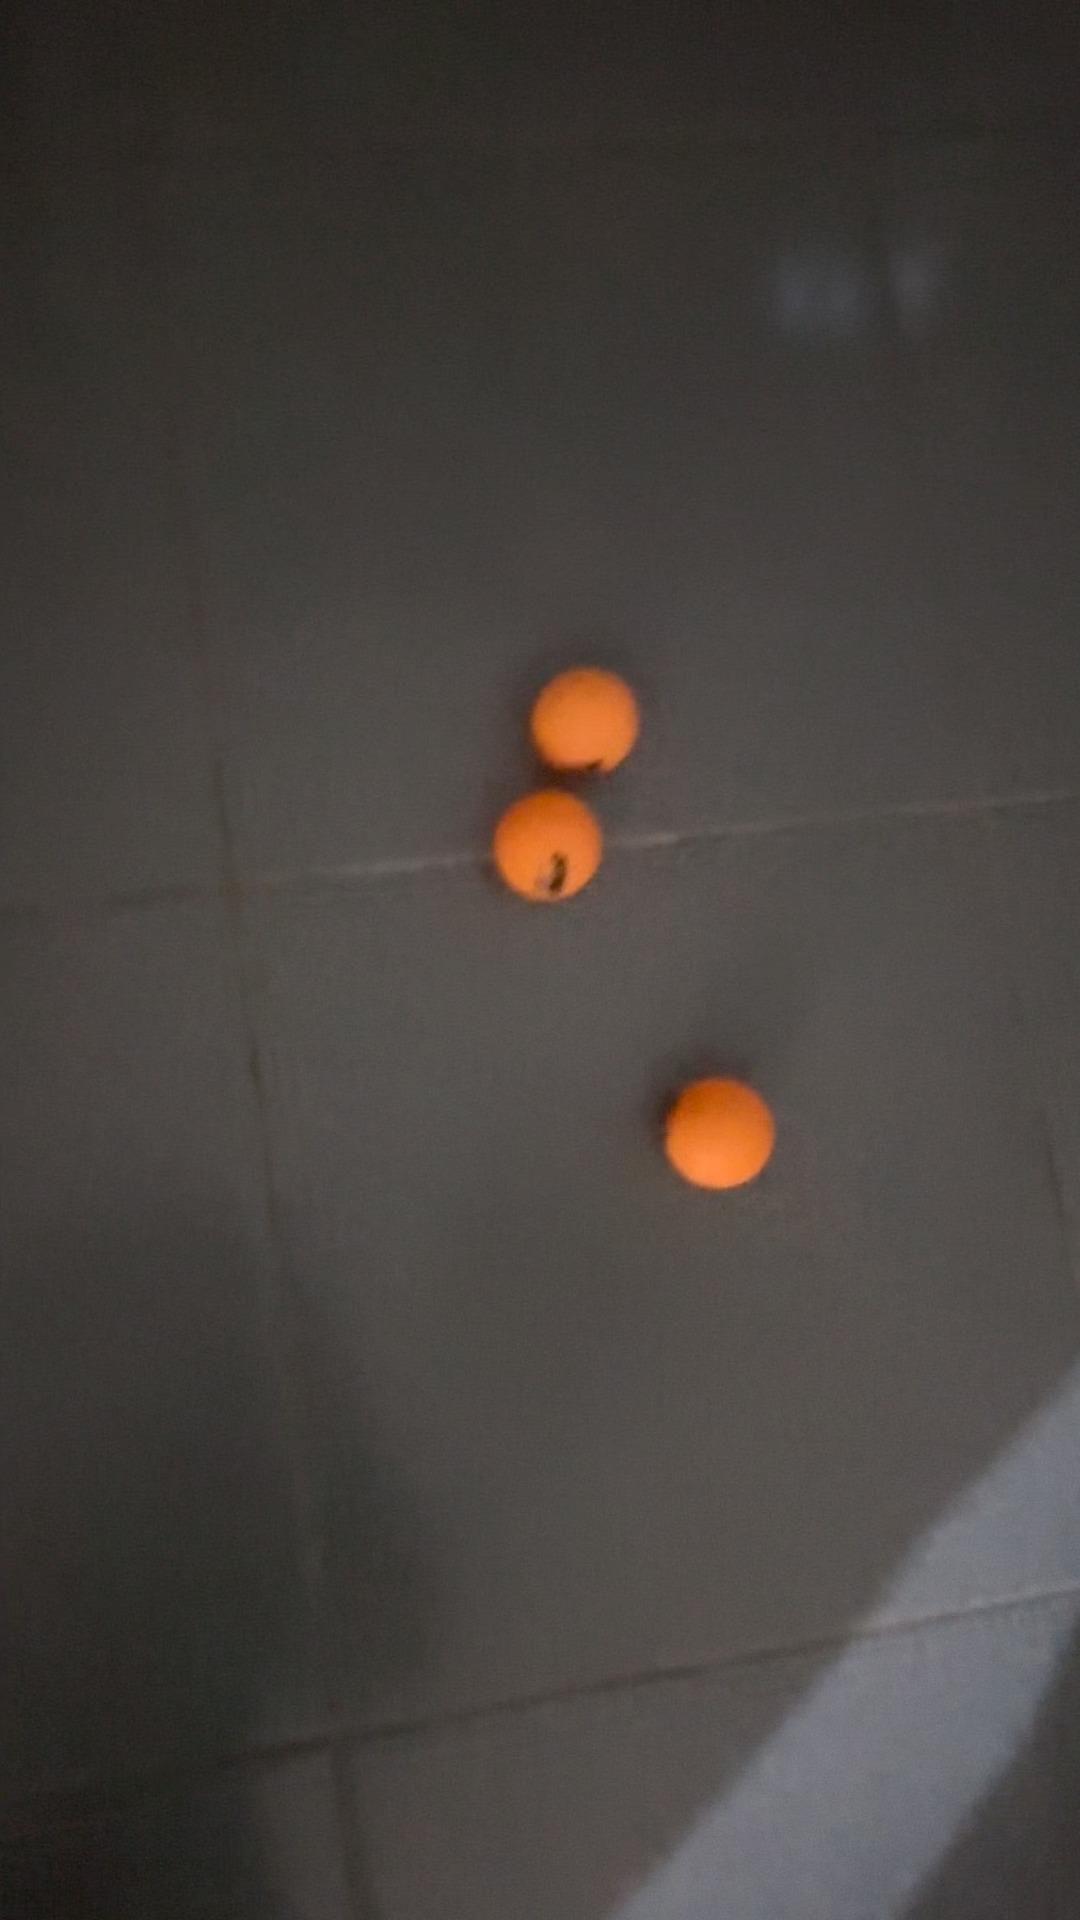oball: (488, 767, 620, 928), (521, 651, 649, 789), (661, 1071, 789, 1195)
